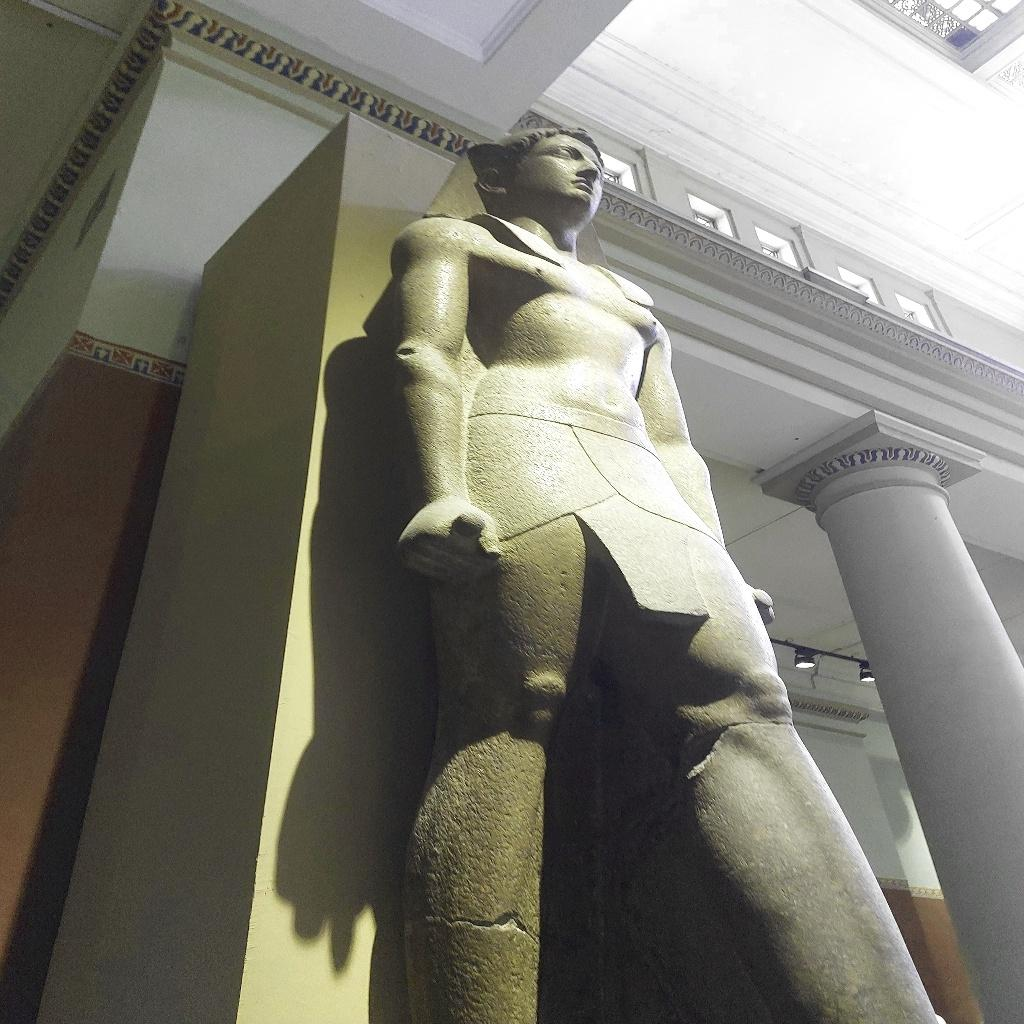Augustus: (384, 124, 944, 1022)
